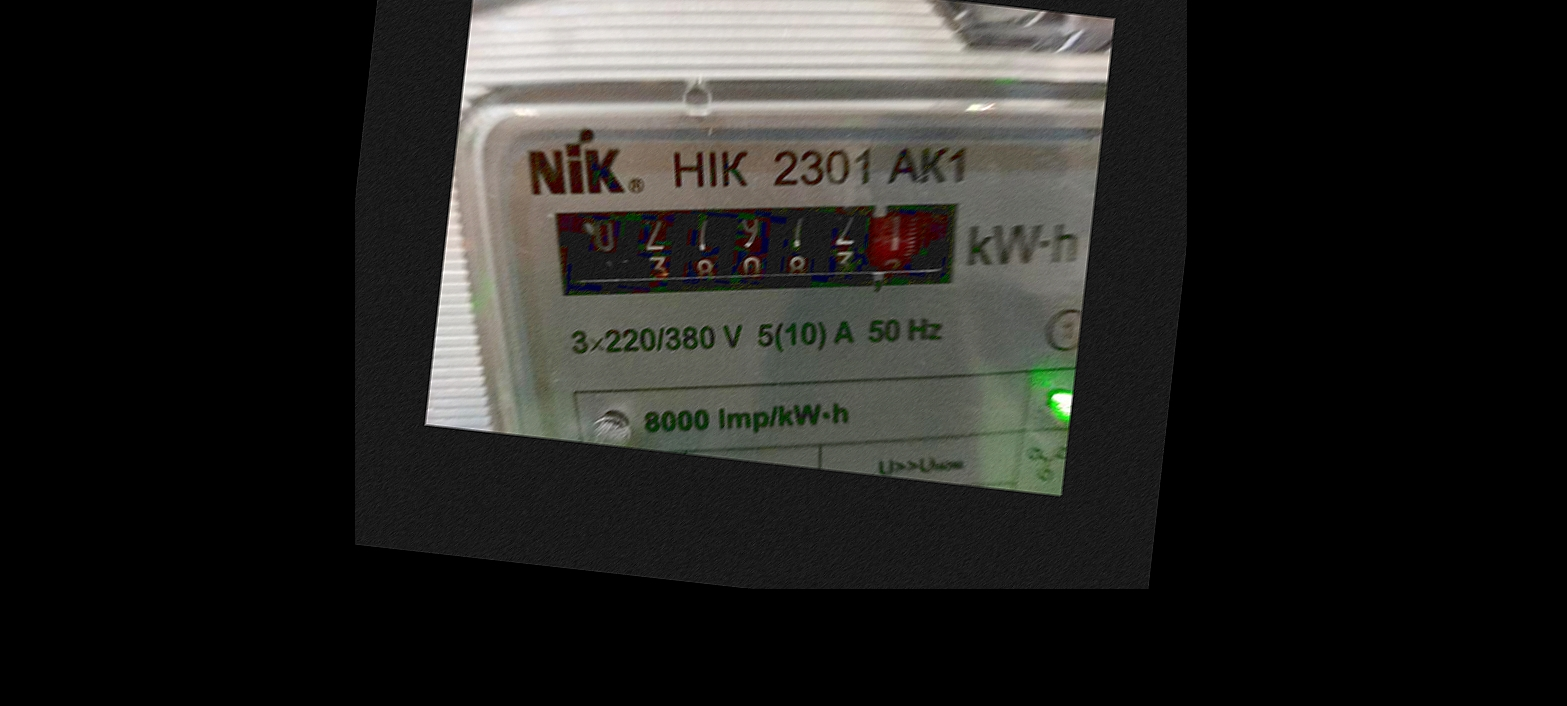0: (590, 213, 622, 252)
1: (884, 209, 911, 254)
2: (639, 210, 672, 252), (831, 207, 863, 247)
7: (783, 207, 814, 250), (689, 212, 716, 252)
9: (737, 210, 767, 248)
screen: (530, 147, 996, 350)
